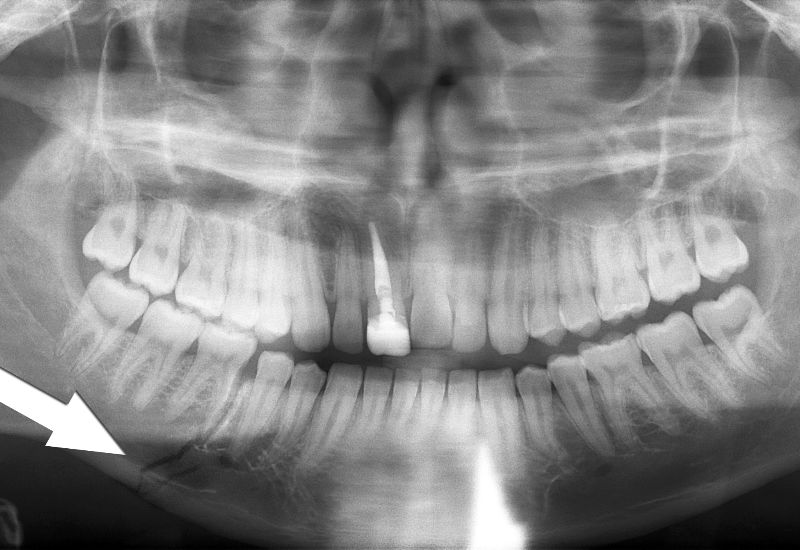canine: (476, 209, 530, 362), (284, 218, 337, 355)
incisor: (358, 221, 413, 362), (444, 222, 487, 359), (410, 233, 458, 355), (326, 350, 366, 487), (331, 225, 370, 356), (363, 355, 395, 471), (387, 364, 426, 452), (420, 361, 448, 481)
molar: (630, 290, 758, 421), (96, 259, 206, 401), (170, 287, 263, 433), (570, 325, 677, 445), (568, 323, 675, 443), (55, 258, 155, 379), (689, 275, 789, 386), (117, 176, 191, 297), (591, 209, 652, 330), (176, 212, 237, 324), (633, 212, 705, 303), (686, 203, 756, 286), (76, 186, 142, 271)
premolar: (533, 347, 626, 455), (520, 205, 572, 347), (510, 357, 577, 467), (549, 216, 603, 338), (246, 350, 295, 455), (291, 346, 327, 462)
